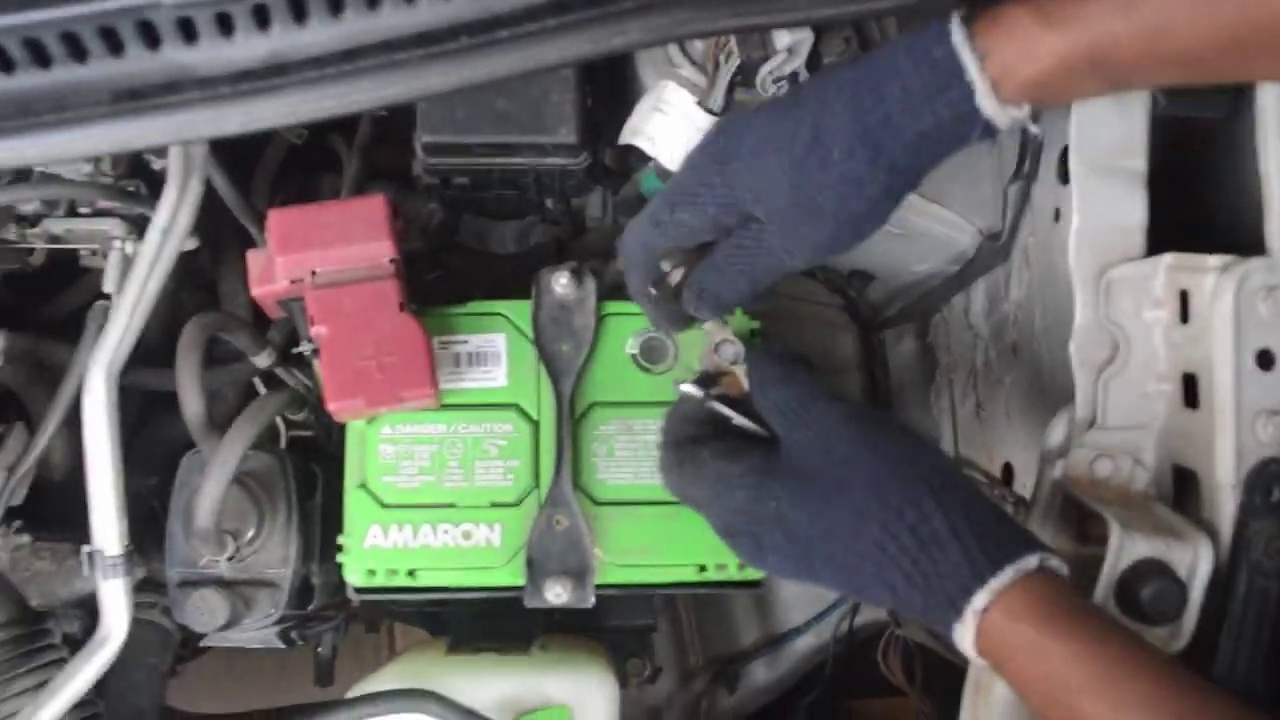battery: (325, 275, 774, 590)
neg_touched: (644, 234, 806, 469)
pos_connected: (278, 244, 449, 448)
